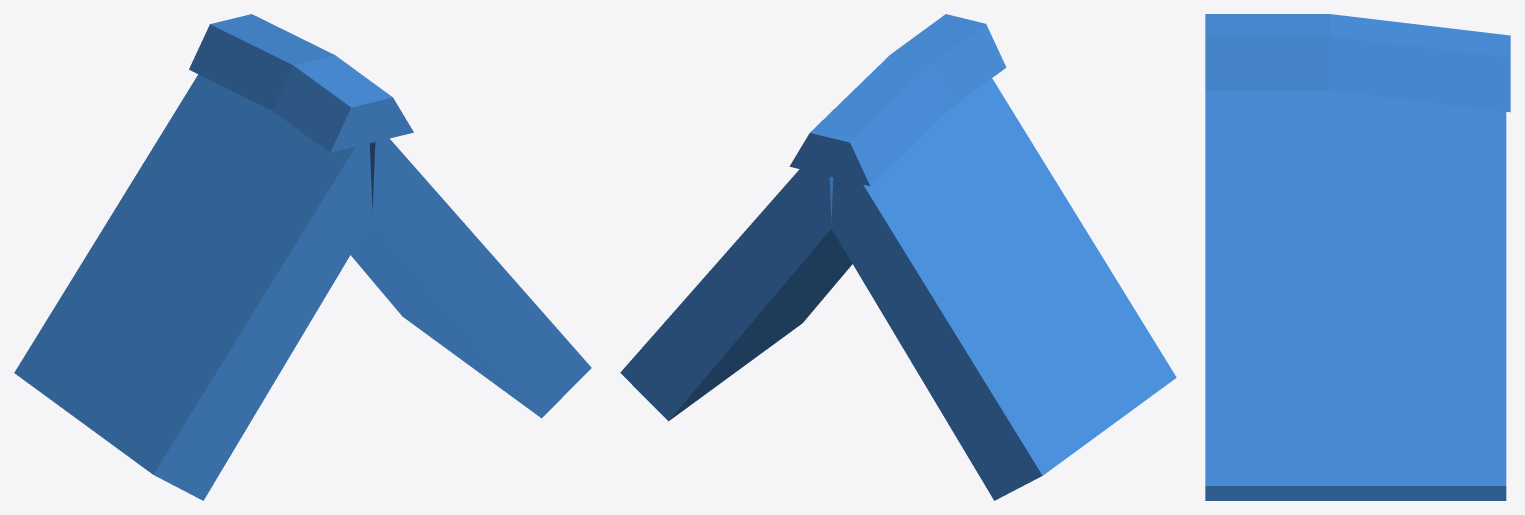
Rendered from Collision_Roof_RoundTile_2x1.fbx.
The picture shows the model from 3 angles, left to right: view 1: azimuth 30°, elevation 25°; view 2: azimuth 150°, elevation 25°; view 3: azimuth 270°, elevation 25°; orthographic projection. The views are drawn at different scales.
Visible parts, largest first — view 1: UCX_Roof_RoundTile_2x1_1; view 2: UCX_Roof_RoundTile_2x1_1; view 3: UCX_Roof_RoundTile_2x1_1.
Boxes of the visible parts, x1,y1,x2,y2 form: UCX_Roof_RoundTile_2x1_1: (14, 14, 591, 500); UCX_Roof_RoundTile_2x1_1: (620, 14, 1176, 500); UCX_Roof_RoundTile_2x1_1: (1205, 14, 1510, 500).
Size of the model in its own units: 338 by 263 by 189.
